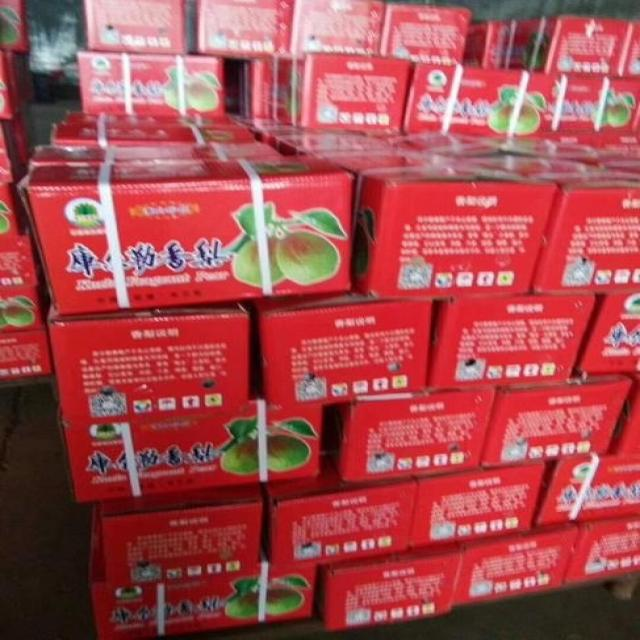box: (17, 155, 355, 316), (271, 135, 560, 300), (388, 135, 640, 292), (89, 502, 319, 639), (63, 400, 323, 503), (45, 300, 251, 427), (251, 291, 432, 411), (426, 292, 598, 392), (99, 483, 264, 586), (336, 387, 499, 483), (260, 473, 419, 567), (482, 371, 632, 470), (401, 61, 565, 144), (313, 542, 465, 631), (411, 463, 547, 551), (273, 52, 414, 136), (461, 16, 640, 80), (452, 526, 581, 607), (78, 49, 227, 119), (532, 454, 640, 531), (53, 110, 258, 145), (556, 73, 640, 148), (288, 1, 386, 61), (197, 0, 294, 60), (84, 0, 188, 55), (380, 5, 472, 67), (574, 292, 640, 376), (564, 515, 640, 584), (486, 140, 640, 172), (32, 144, 283, 163), (0, 330, 54, 382), (607, 373, 640, 456), (1, 47, 37, 119), (0, 233, 41, 289), (0, 287, 46, 333), (240, 59, 275, 117), (0, 119, 24, 184), (0, 0, 30, 51), (0, 182, 22, 235)
